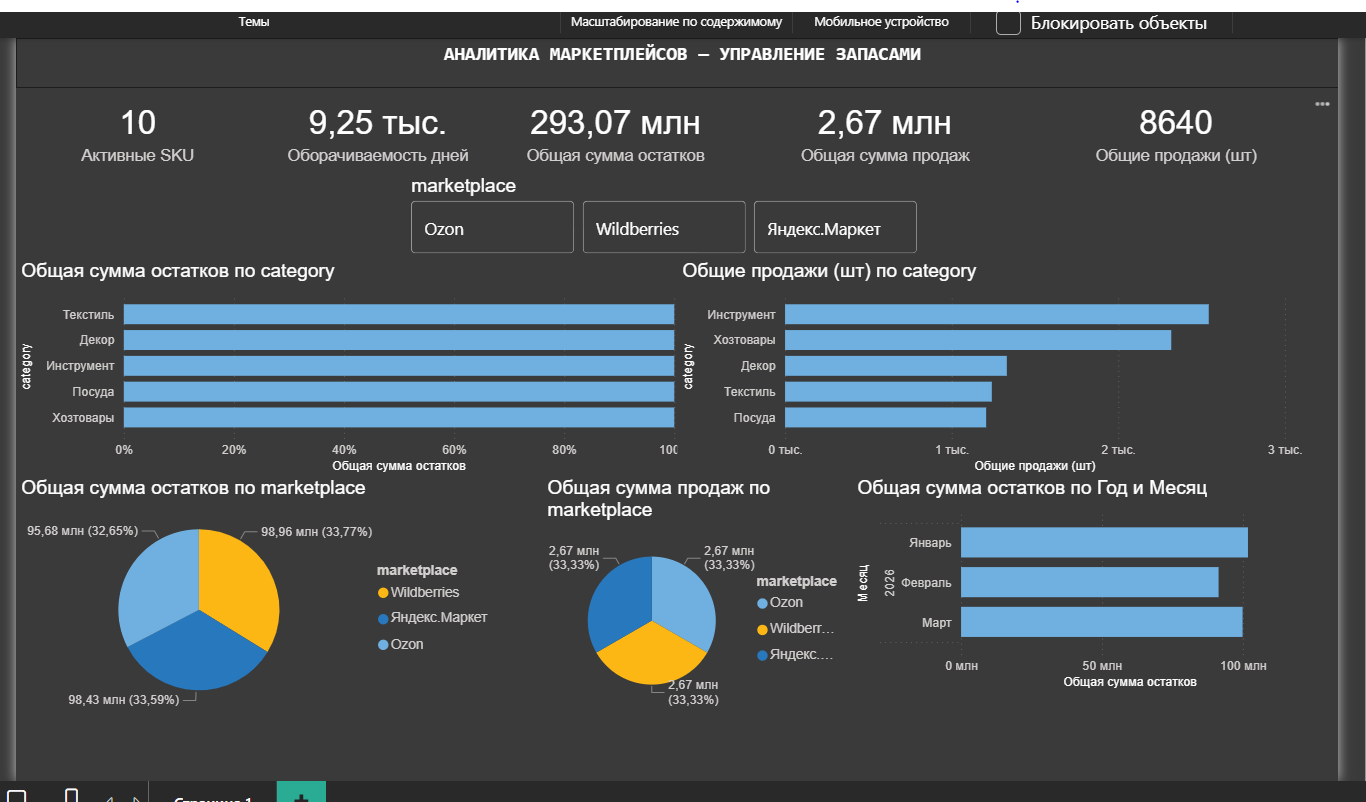

The page's visual inventory and layout, read from the dashboard file:
{"tool":"powerbi","page":{"name":"Страница 1","canvas":[1280,720],"ordinal":0},"visuals":[{"type":"card","fields":{"Values":["Меры.Активные SKU"]},"box":[0,48,236,83.7],"z":0},{"type":"card","fields":{"Values":["Меры.Оборачиваемость дней"]},"box":[236,48,229.2,83.7],"z":1000},{"type":"card","fields":{"Values":["Меры.Общая сумма остатков"]},"box":[465.2,48,231.9,83.7],"z":2000},{"type":"card","fields":{"Values":["Меры.Общая сумма продаж"]},"box":[714.9,48,252.5,83.7],"z":3000},{"type":"card","fields":{"Values":["inventory.Общее количество остатков"]},"box":[967.4,48,312.9,83.7],"z":4000},{"type":"hundredPercentStackedBarChart","fields":{"Category":["products.category"],"Y":["Меры.Общая сумма остатков"]},"box":[0,214.1,658.7,211.3],"z":5000},{"type":"pieChart","fields":{"Category":["inventory.marketplace"],"Y":["Меры.Общая сумма остатков"]},"box":[0,425.4,470.7,237.4],"z":6000},{"type":"pieChart","fields":{"Category":["inventory.marketplace"],"Y":["Меры.Общая сумма продаж"]},"box":[509.1,425.4,300.5,237.4],"z":7000},{"type":"clusteredBarChart","fields":{"Category":["inventory.date.Изменение.Иерархия дат.Год","inventory.date.Изменение.Иерархия дат.Месяц"],"Y":["Меры.Общая сумма остатков"]},"box":[809.6,425.4,461.1,209.9],"z":8000},{"type":"barChart","fields":{"Y":["Меры.Общие продажи (шт)"],"Category":["products.category"]},"box":[640.8,214.1,610.6,211.3],"z":9000},{"type":"textbox","box":[0,0,1280.3,48],"z":10000},{"type":"advancedSlicerVisual","fields":{"Values":["inventory.marketplace"]},"box":[377.4,131.7,500.9,82.3],"z":11000}]}

Visuals, with their boxes on the page's 1280x720 design canvas (x1, y1, x2, y2). These are canvas units, not pixel positions in the 1366x802 screenshot, which may show the page scaled, cropped or inside an application window:
card - Меры.Активные SKU: l=0, t=48, r=236, b=132
card - Меры.Оборачиваемость дней: l=236, t=48, r=465, b=132
card - Меры.Общая сумма остатков: l=465, t=48, r=697, b=132
card - Меры.Общая сумма продаж: l=715, t=48, r=967, b=132
card - inventory.Общее количество остатков: l=967, t=48, r=1280, b=132
hundredPercentStackedBarChart - products.category x Меры.Общая сумма остатков: l=0, t=214, r=659, b=425
pieChart - inventory.marketplace x Меры.Общая сумма остатков: l=0, t=425, r=471, b=663
pieChart - inventory.marketplace x Меры.Общая сумма продаж: l=509, t=425, r=810, b=663
clusteredBarChart - inventory.date.Изменение.Иерархия дат.Год x inventory.date.Изменение.Иерархия дат.Месяц: l=810, t=425, r=1271, b=635
barChart - Меры.Общие продажи (шт) x products.category: l=641, t=214, r=1251, b=425
textbox: l=0, t=0, r=1280, b=48
advancedSlicerVisual - inventory.marketplace: l=377, t=132, r=878, b=214
